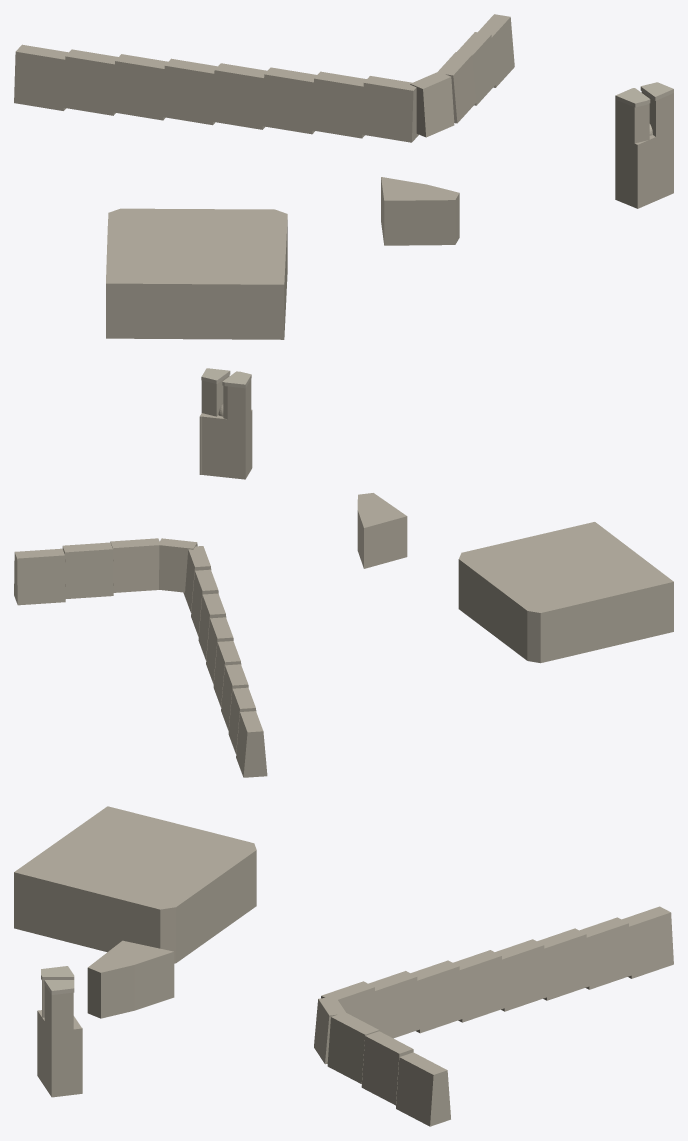
The model's file is bormla_64_28_mid.glb.
The picture shows the model from 3 angles, top to bottom: view 1: azimuth 30°, elevation 25°; view 2: azimuth 150°, elevation 25°; view 3: azimuth 270°, elevation 25°; orthographic projection. The views are drawn at different scales.
Visible parts, largest first — view 1: geometry_0; view 2: geometry_0; view 3: geometry_0.
Part boxes in pixels (x1,y1,x2,y2): geometry_0: (14, 14, 673, 339); geometry_0: (14, 368, 673, 777); geometry_0: (14, 806, 673, 1126).
Bounding box in the file's own units: 148 × 35.44 × 146.
